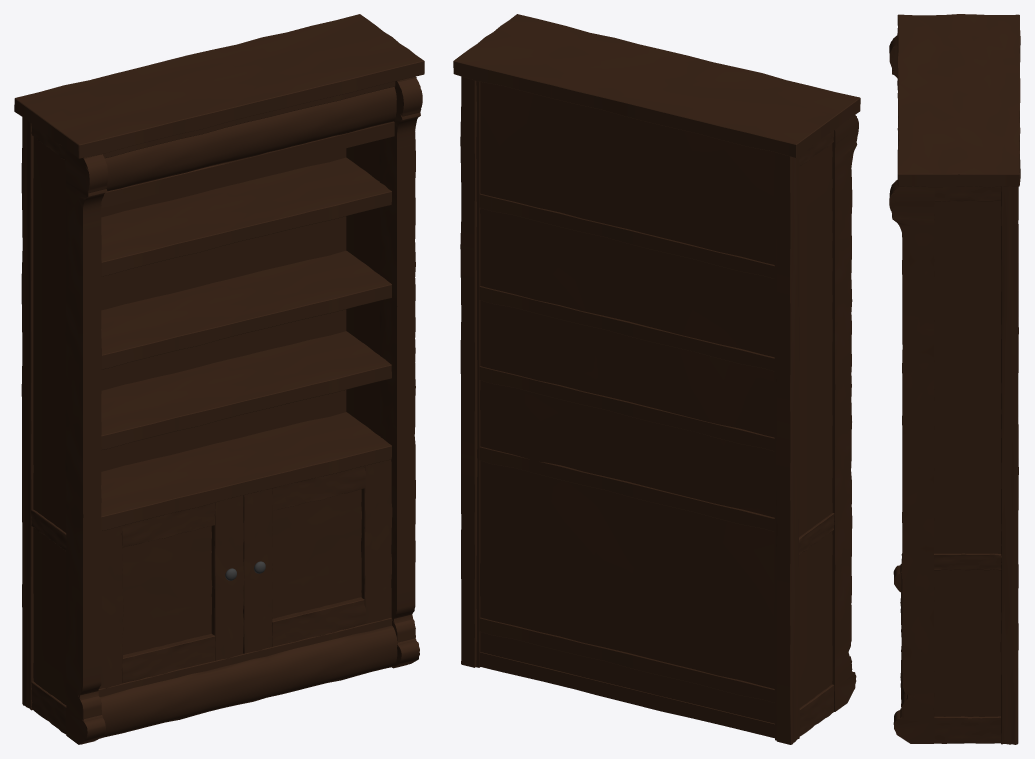
3 views of the same model, side by side, from view 1: azimuth 30°, elevation 25°; view 2: azimuth 150°, elevation 25°; view 3: azimuth 270°, elevation 25° (orthographic). The views are drawn at different scales.
Parts seen in each view (by area): view 1: Shelf_Fancy; view 2: Shelf_Fancy; view 3: Shelf_Fancy.
Boxes of the visible parts, x1,y1,x2,y2 form: Shelf_Fancy: (14,14,424,744); Shelf_Fancy: (453,14,860,744); Shelf_Fancy: (889,14,1020,744).
Bounding box in the file's own units: 1.38 × 2.3 × 0.4779.
